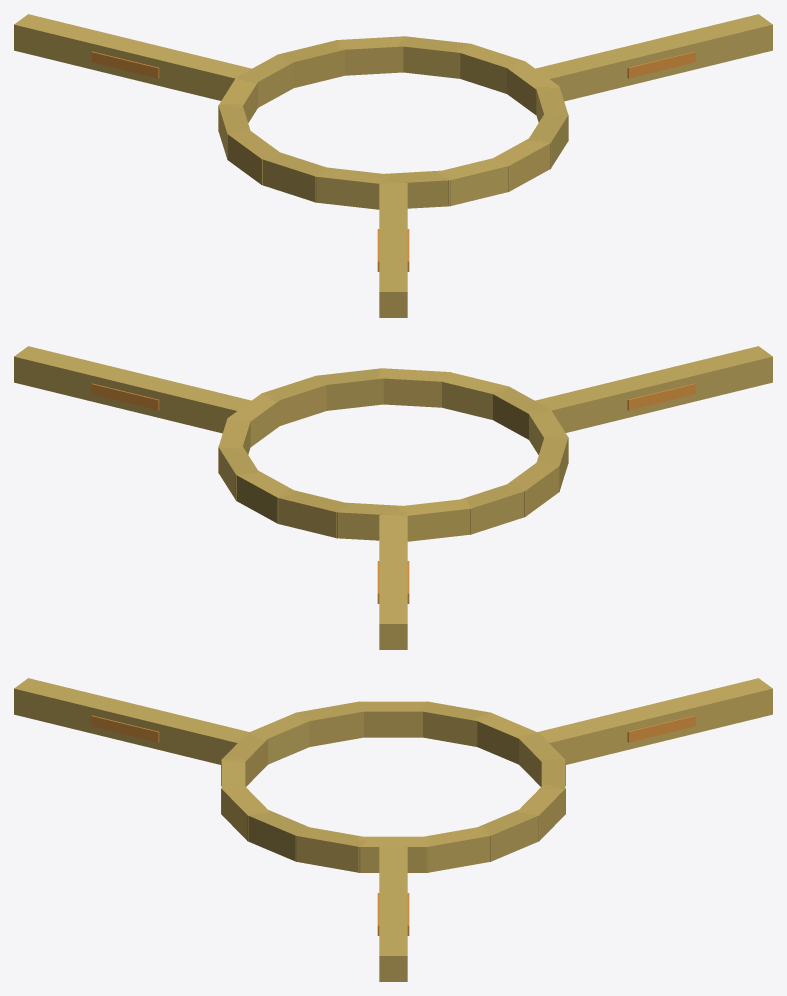
The model's file is 13_tower_rotor.glb.
3 views of the same model, one above another, from view 1: azimuth 30°, elevation 25°; view 2: azimuth 150°, elevation 25°; view 3: azimuth 270°, elevation 25° (orthographic).
Visible parts, largest first — view 1: tower_rotor_truss, tower_rotor_hazard_nocol; view 2: tower_rotor_truss, tower_rotor_hazard_nocol; view 3: tower_rotor_truss, tower_rotor_hazard_nocol.
Part boxes in pixels (box(x1,y1,x2,y2)): tower_rotor_truss: box(14, 14, 772, 317); tower_rotor_hazard_nocol: box(91, 51, 695, 271); tower_rotor_truss: box(14, 346, 772, 649); tower_rotor_hazard_nocol: box(91, 383, 695, 603); tower_rotor_truss: box(14, 678, 772, 981); tower_rotor_hazard_nocol: box(91, 715, 695, 935).
Size of the model in its own units: 68.8 by 3 by 79.44.
